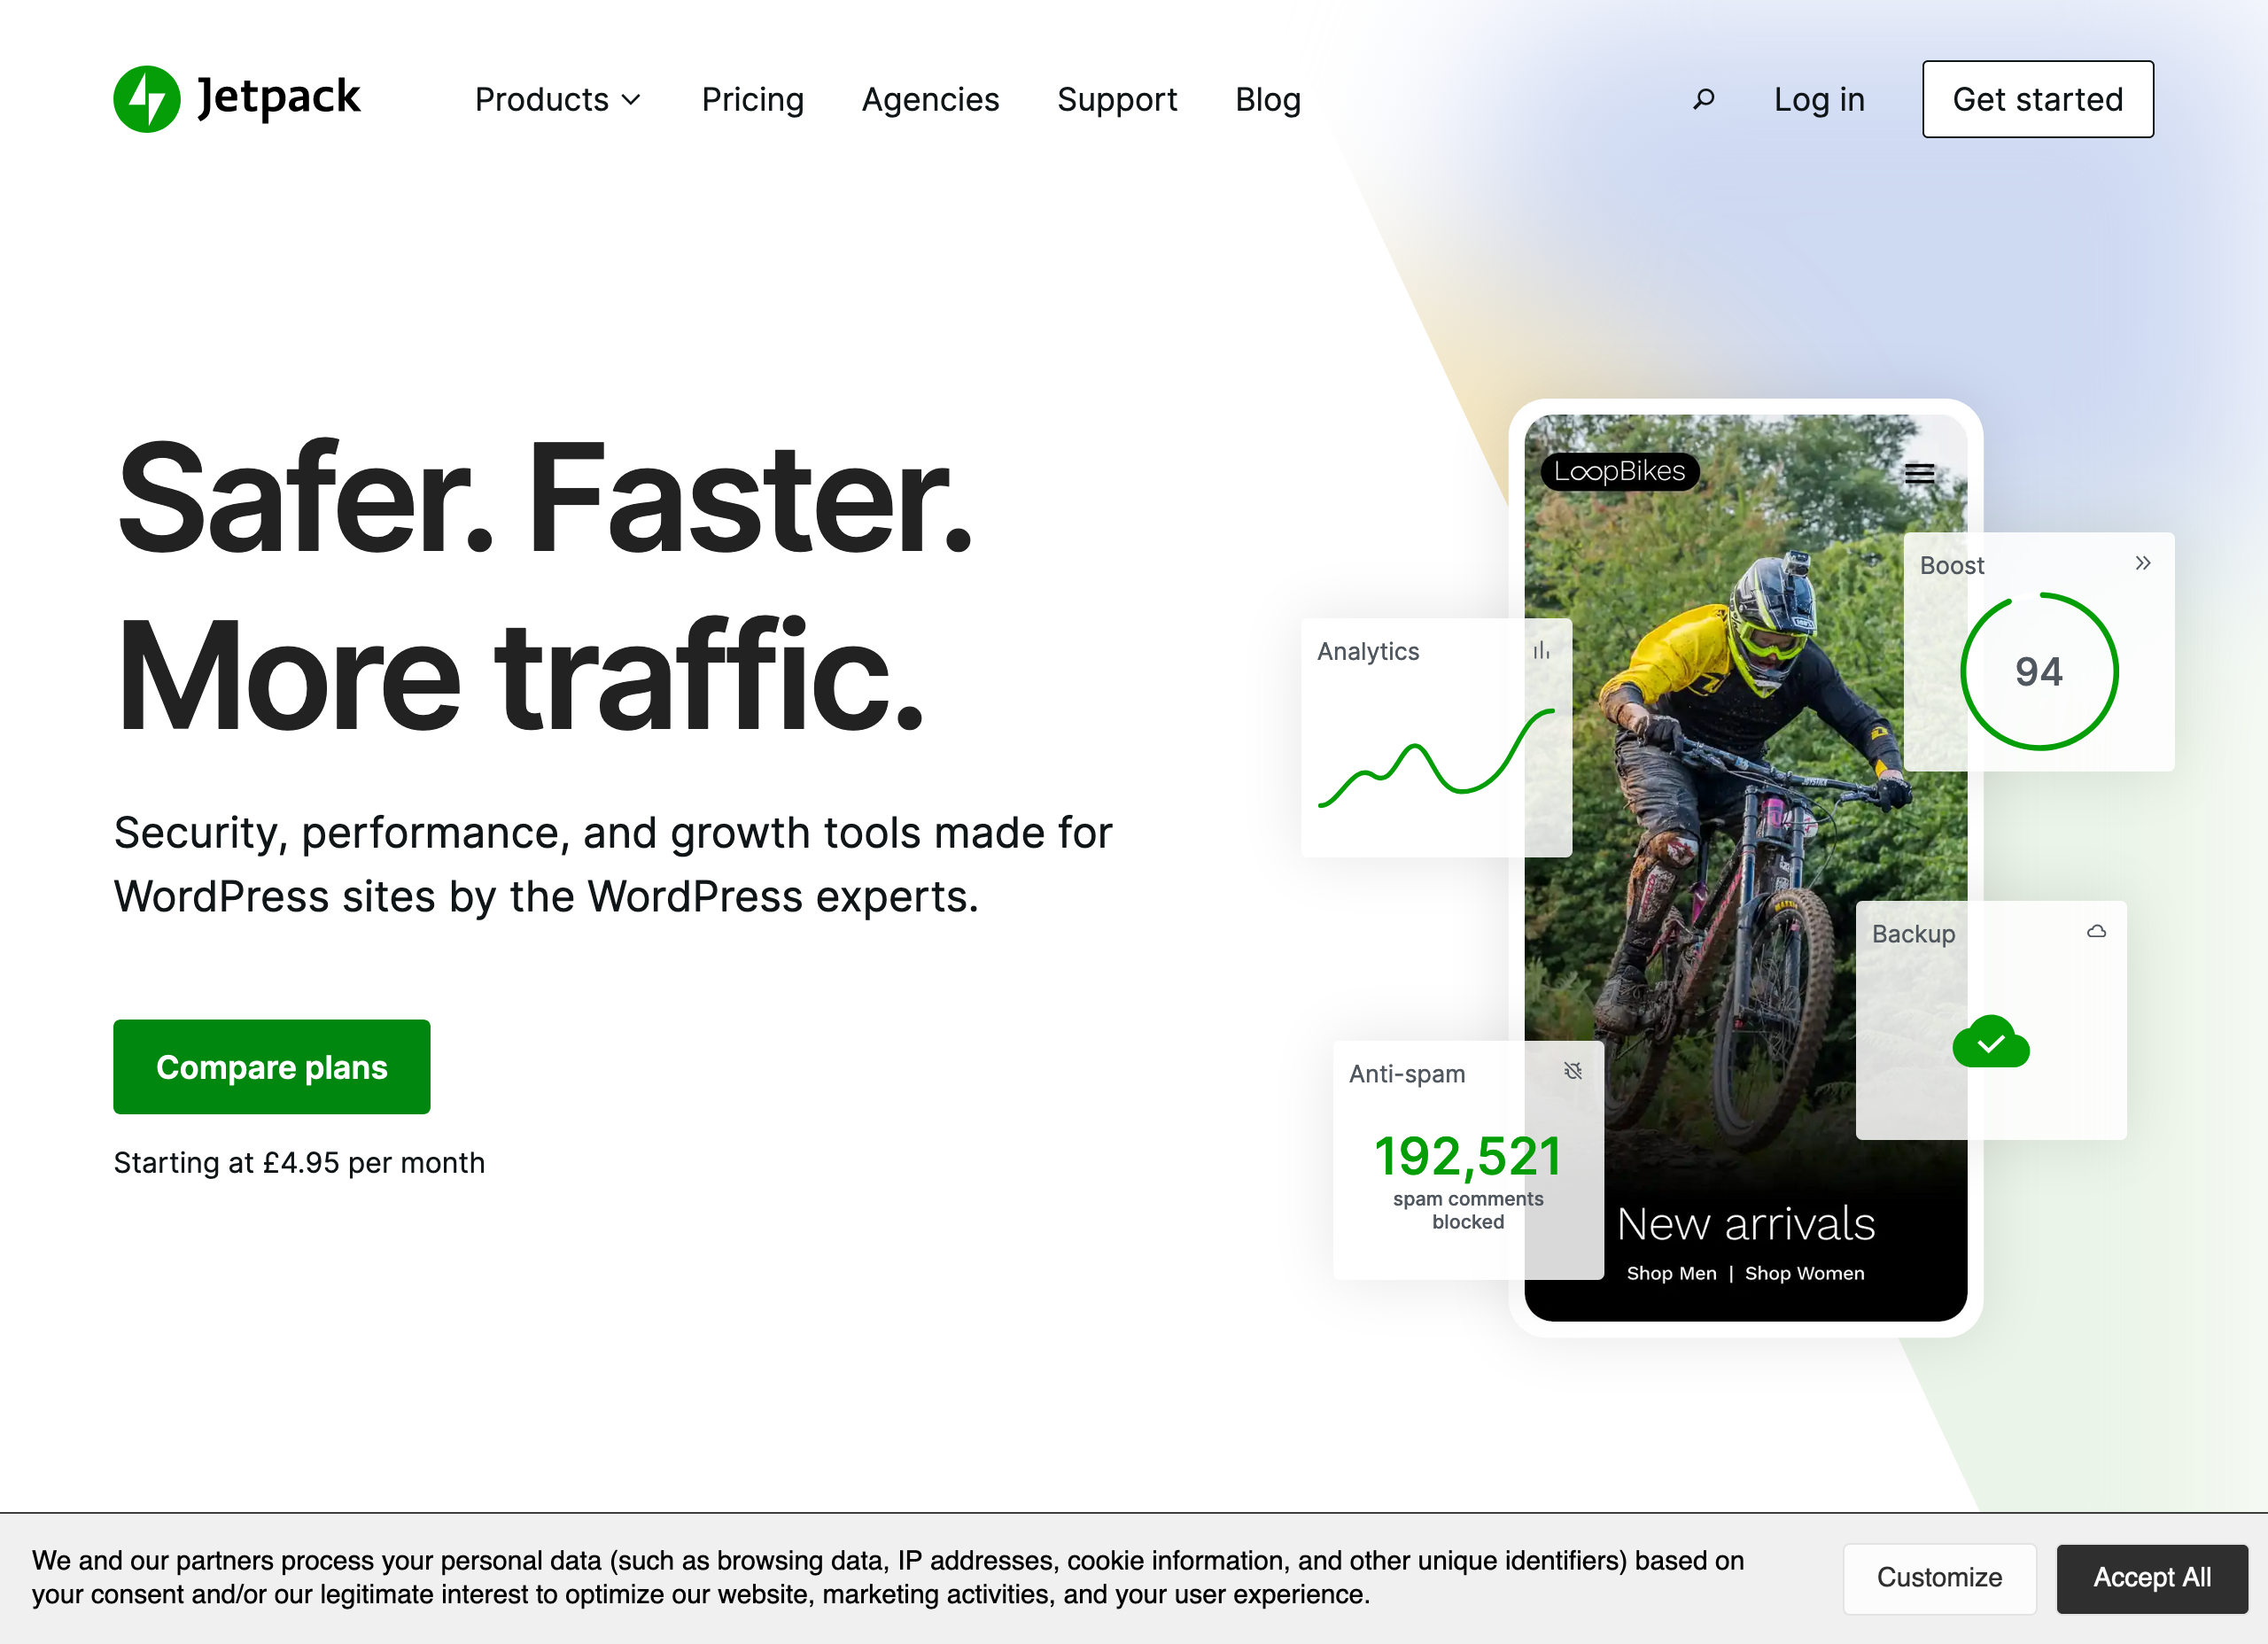Login: (1747, 58, 1886, 130)
